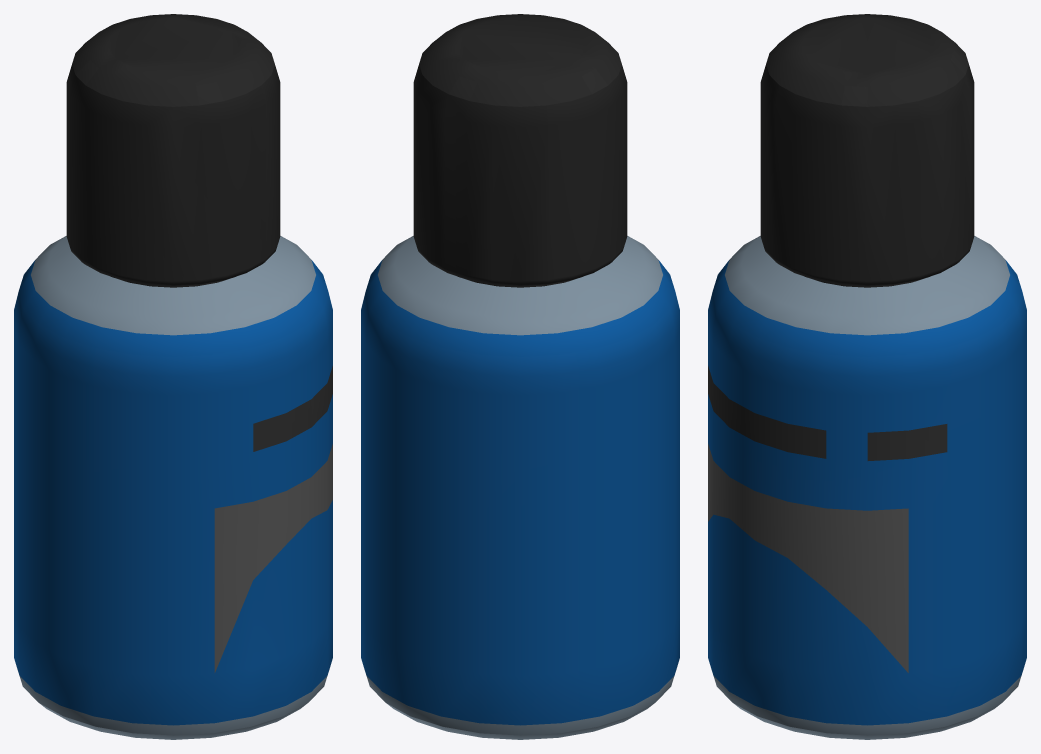
The model's file is SM_Bottle_V02.fbx.
The picture shows the model from 3 angles, left to right: view 1: azimuth 30°, elevation 25°; view 2: azimuth 150°, elevation 25°; view 3: azimuth 270°, elevation 25°; orthographic projection.
Visible parts, largest first — view 1: SM_Bottle_V02; view 2: SM_Bottle_V02; view 3: SM_Bottle_V02.
Boxes of the visible parts, x1,y1,x2,y2 form: SM_Bottle_V02: (14, 14, 332, 739); SM_Bottle_V02: (361, 14, 679, 739); SM_Bottle_V02: (708, 14, 1026, 739).
Size of the model in its own units: 7.87 by 17.32 by 7.87.
